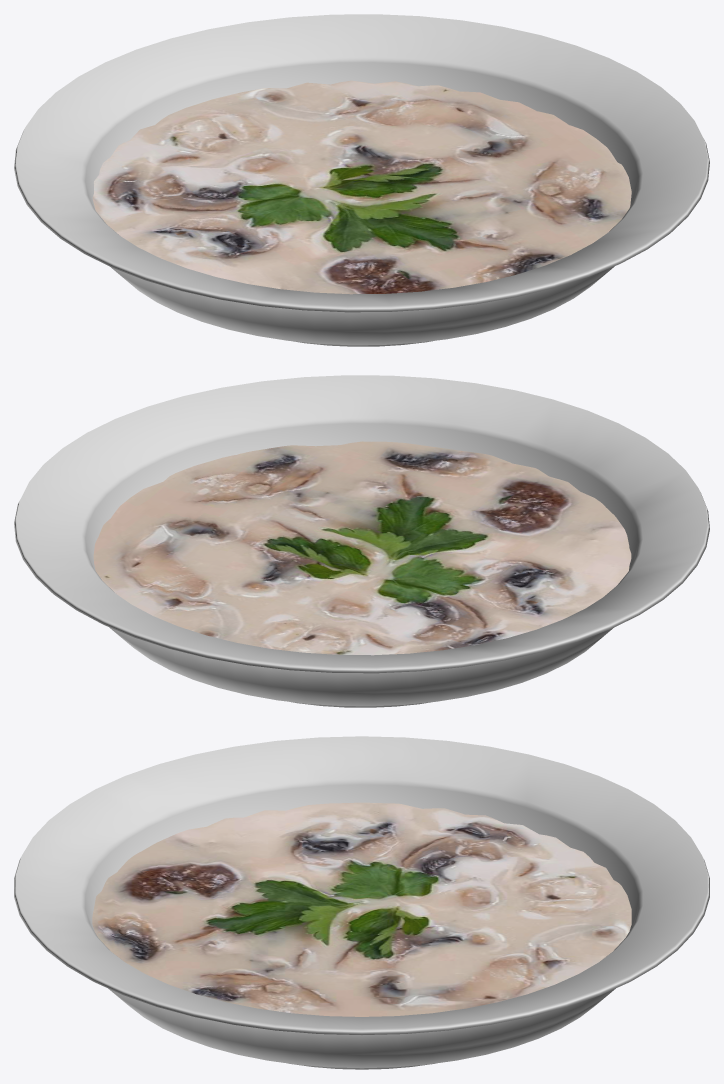
The model's file is Soup_Reduce.fbx.
3 renders of one model, top to bottom at view 1: azimuth 30°, elevation 25°; view 2: azimuth 150°, elevation 25°; view 3: azimuth 270°, elevation 25°, orthographic.
Parts seen in each view (by area): view 1: Circle05, Тарелка05; view 2: Circle05, Тарелка05; view 3: Circle05, Тарелка05.
Boxes of the visible parts, x1=… form: Circle05: x1=92, y1=80, x2=631, y2=294; Тарелка05: x1=14, y1=14, x2=709, y2=346; Circle05: x1=93, y1=441, x2=631, y2=655; Тарелка05: x1=14, y1=375, x2=709, y2=707; Circle05: x1=92, y1=802, x2=631, y2=1016; Тарелка05: x1=14, y1=736, x2=709, y2=1069.
Bounding box in the file's own units: 24.11 × 3.95 × 24.07.
